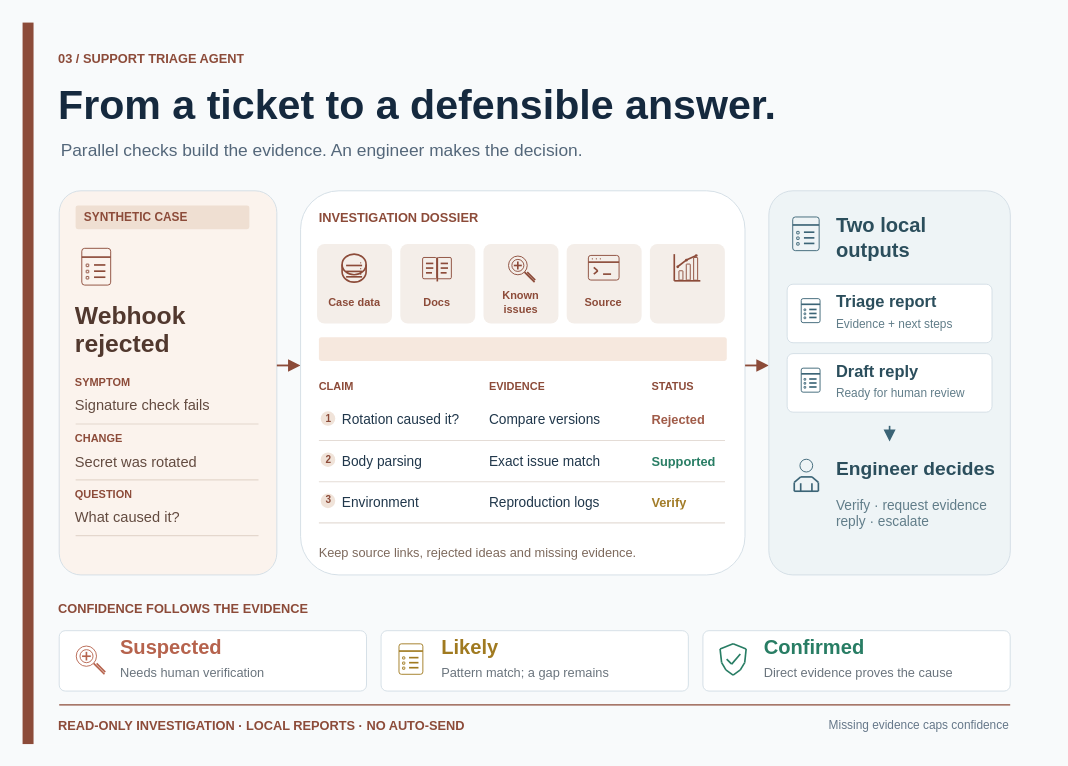
This 1068x766 diagram has some shape labels left out. Here are the shapes that lost their labels. From the top down, the centre of each, then its label:
At point 686,283: "Logs / repro".
At point 522,348: "SEARCH KNOWN ISSUES BEFORE BLAMING CONFIG".
